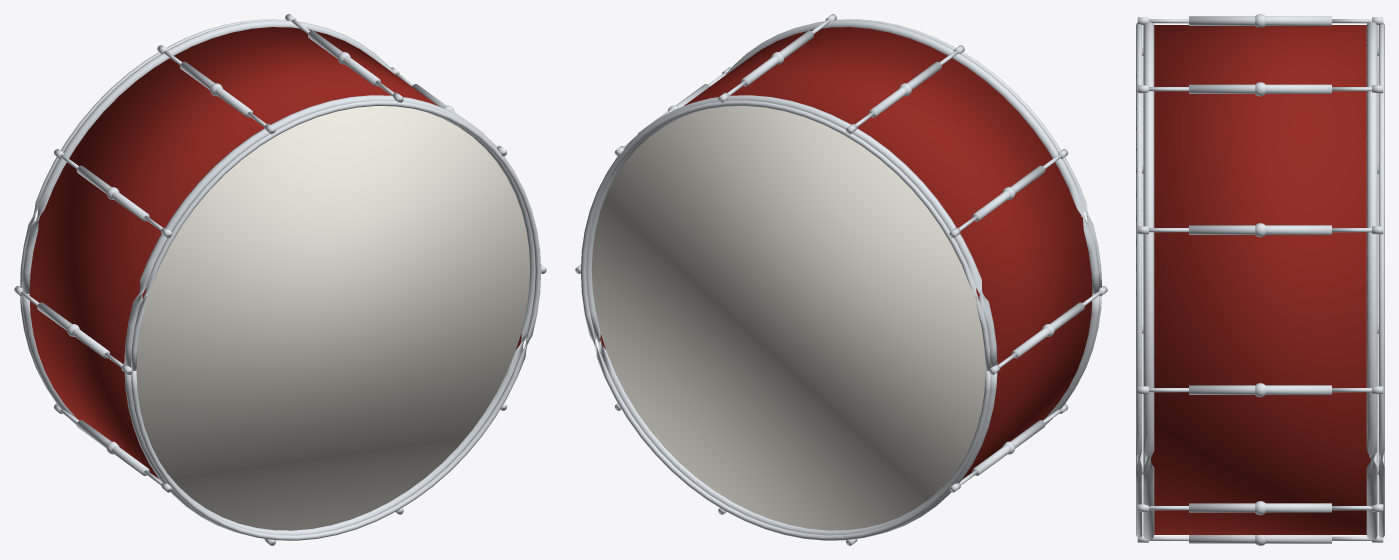
The model's file is grosse-caisse.glb.
3 renders of one model, left to right at view 1: azimuth 30°, elevation 25°; view 2: azimuth 150°, elevation 25°; view 3: azimuth 270°, elevation 25°, orthographic. The views are drawn at different scales.
Visible parts, largest first — view 1: grosse-caisse — Peau sablee, grosse-caisse — Laque acajou, grosse-caisse — Maillechort argente; view 2: grosse-caisse — Peau sablee, grosse-caisse — Laque acajou, grosse-caisse — Maillechort argente; view 3: grosse-caisse — Laque acajou, grosse-caisse — Maillechort argente.
Boxes of the visible parts, x1,y1,x2,y2 form: grosse-caisse — Peau sablee: [136, 106, 530, 530]; grosse-caisse — Laque acajou: [29, 27, 521, 479]; grosse-caisse — Maillechort argente: [14, 14, 546, 545]; grosse-caisse — Peau sablee: [591, 106, 985, 530]; grosse-caisse — Laque acajou: [600, 27, 1092, 479]; grosse-caisse — Maillechort argente: [575, 14, 1107, 545]; grosse-caisse — Laque acajou: [1150, 25, 1371, 534]; grosse-caisse — Maillechort argente: [1136, 14, 1384, 545].
Size of the model in its own units: 0.672 by 0.654 by 0.312.
